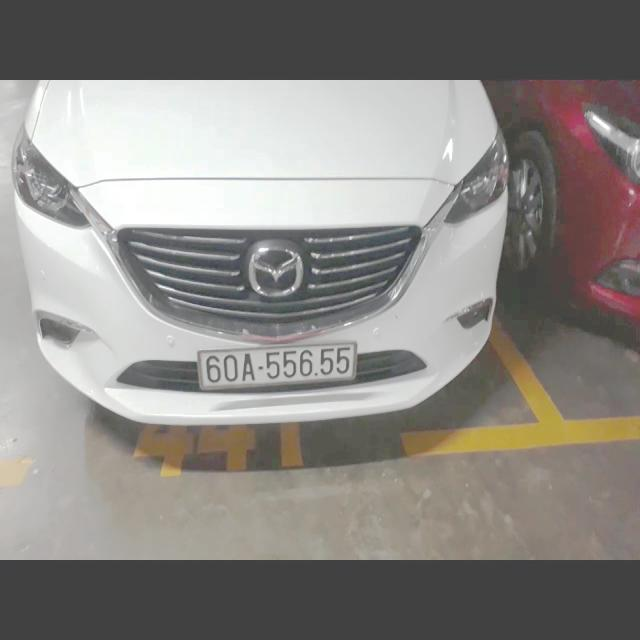license_plate: (202, 343, 358, 390)
